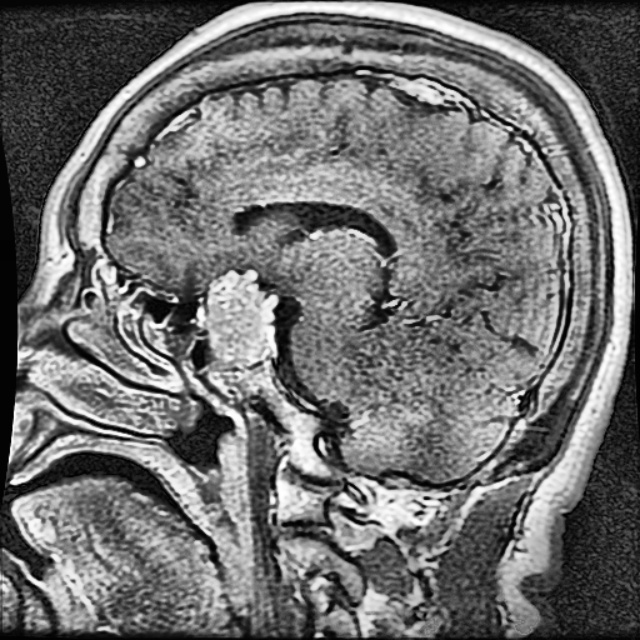Pituitary: (204, 274, 273, 364)
